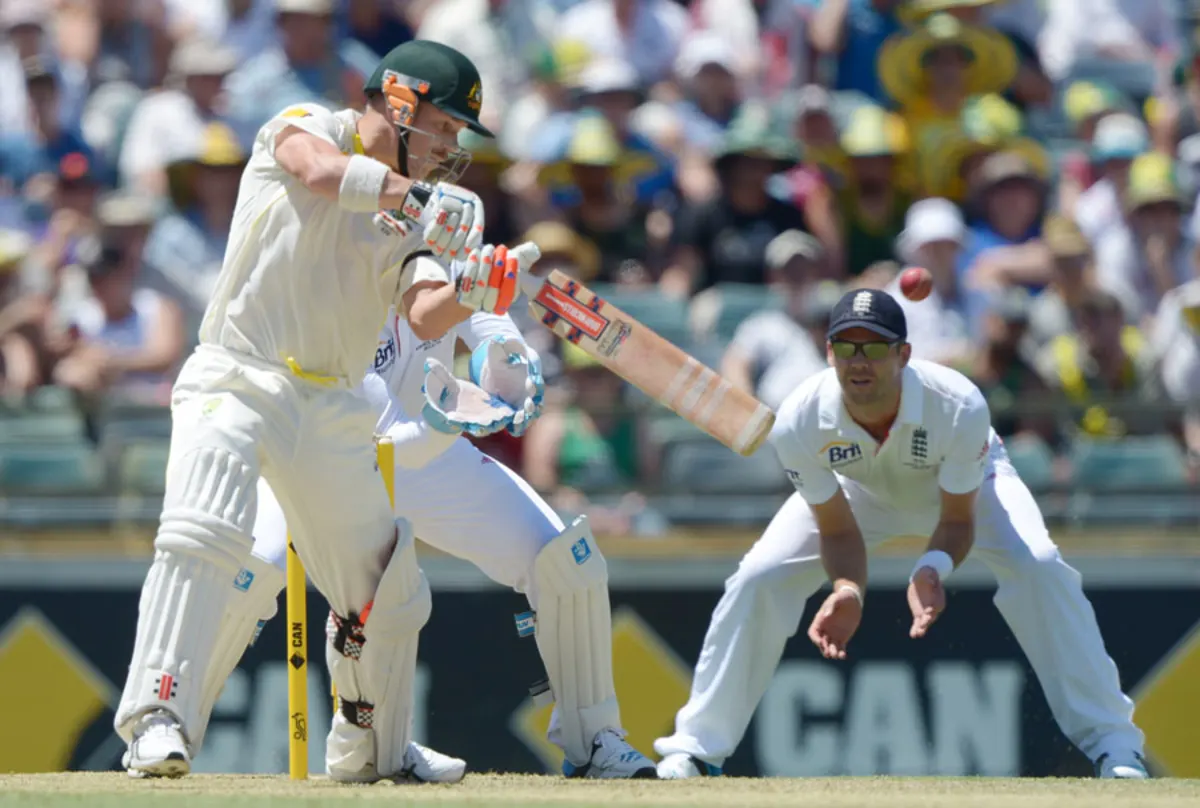Cutshot: (116, 13, 937, 797)
